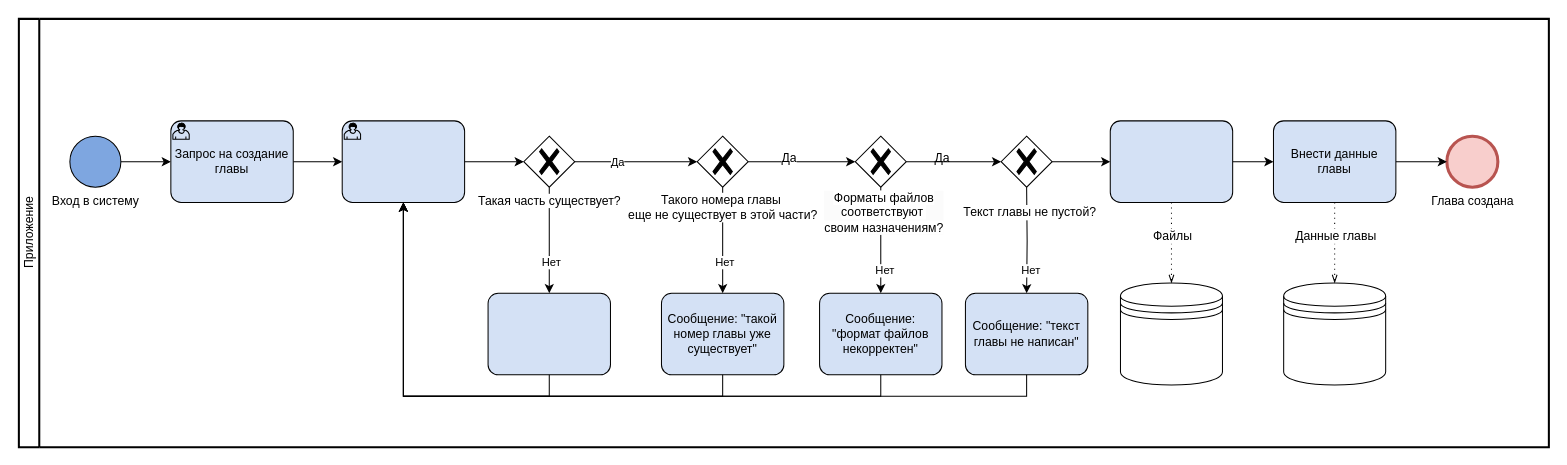
Image size: 1567x465. Some labels were removed from this diagram. The shapes that lost their labels are listed below. From the top down, each one's centre as x and y in pixels, then its label:
point (403, 161): Указание номера, текста, картинок к главе
point (1171, 161): Внести файлы в s3 контейнер главы
point (548, 333): Сообщение: "такой части не существует"
point (1170, 333): S3
point (1334, 333): БД
